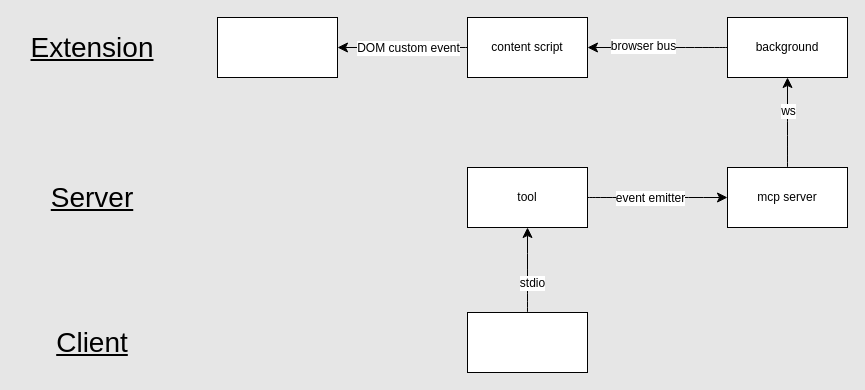
The diagram is 865 pixels wide and 390 high, and some of its shapes have lost their labels. Here are the shapes that lost their labels. From the top down, the centre of each, then its label:
At pixel 277 47: "main world Draw.io plugin".
At pixel 527 342: "mcp client".
